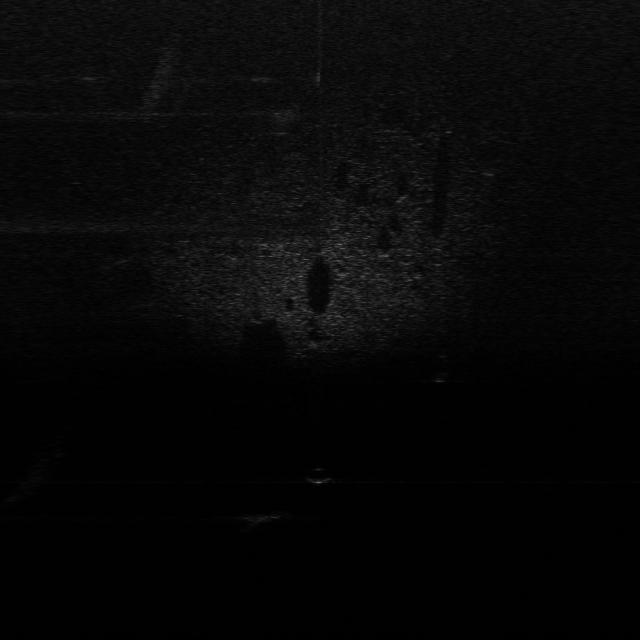ball: (304, 464, 336, 486)
square cage: (236, 507, 290, 528)
tyre: (428, 353, 458, 383)
